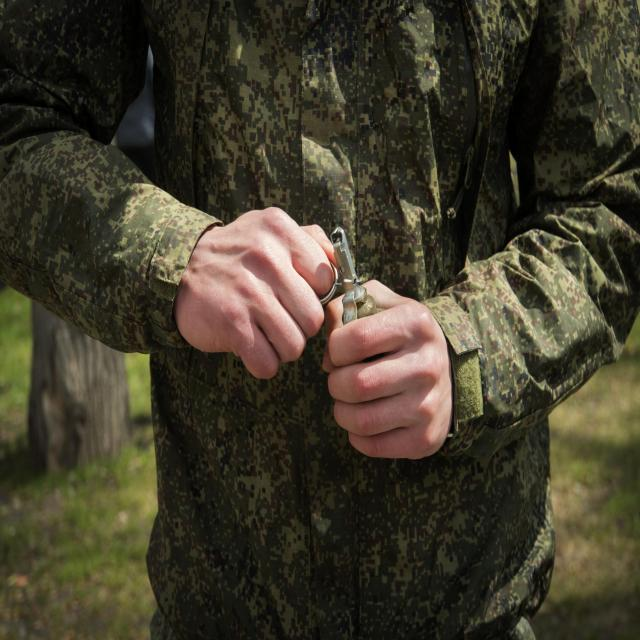grenade: (319, 227, 384, 328)
